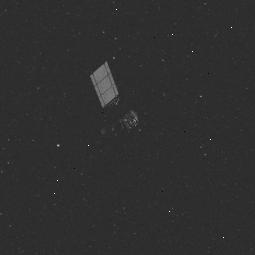earth_observation_sat_1: (86, 77, 146, 140)
